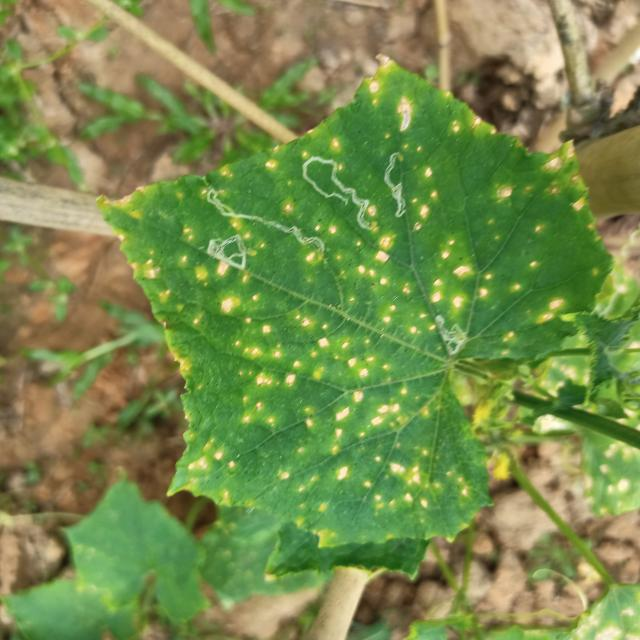disease_cucumber: (173, 70, 596, 339), (113, 236, 482, 530)
